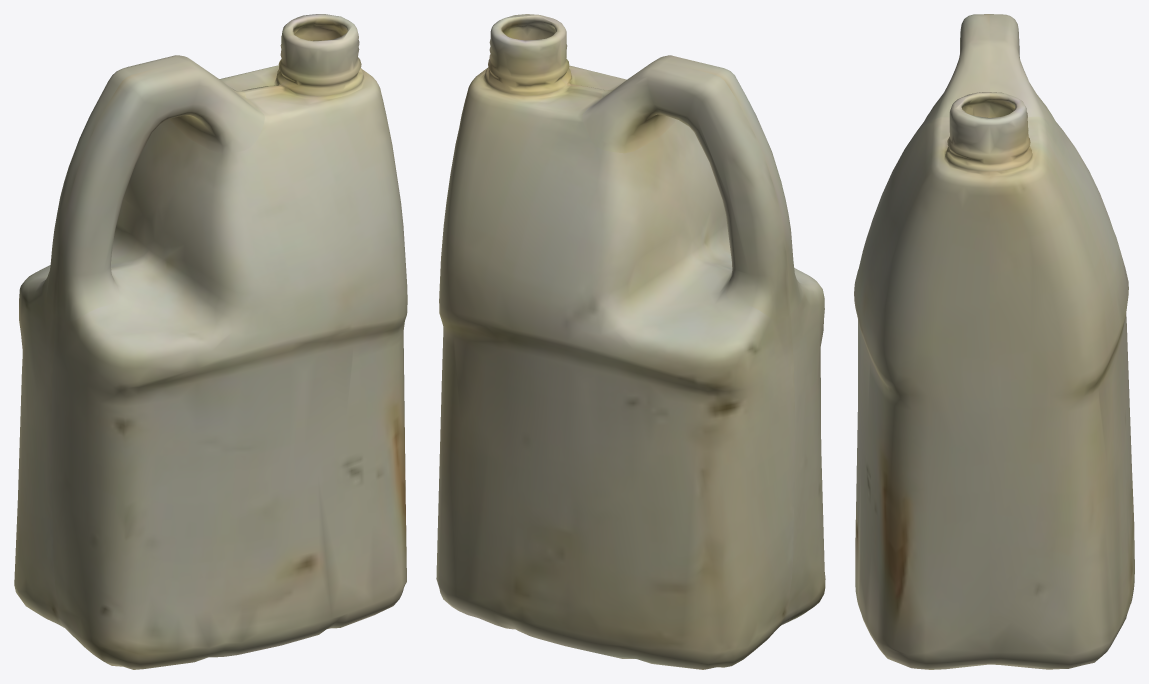
The model's file is plastic_bottle_gallon.glb.
3 views of the same model, side by side, from view 1: azimuth 30°, elevation 25°; view 2: azimuth 150°, elevation 25°; view 3: azimuth 270°, elevation 25° (orthographic).
Parts seen in each view (by area): view 1: plastic_bottle_gallon; view 2: plastic_bottle_gallon; view 3: plastic_bottle_gallon.
Boxes of the visible parts, bbox=[...] form: plastic_bottle_gallon: bbox=[14, 14, 407, 669]; plastic_bottle_gallon: bbox=[436, 14, 825, 669]; plastic_bottle_gallon: bbox=[854, 14, 1134, 669].
Size of the model in its own units: 0.1661 by 0.2745 by 0.1263.
1 material, 1 textured.
